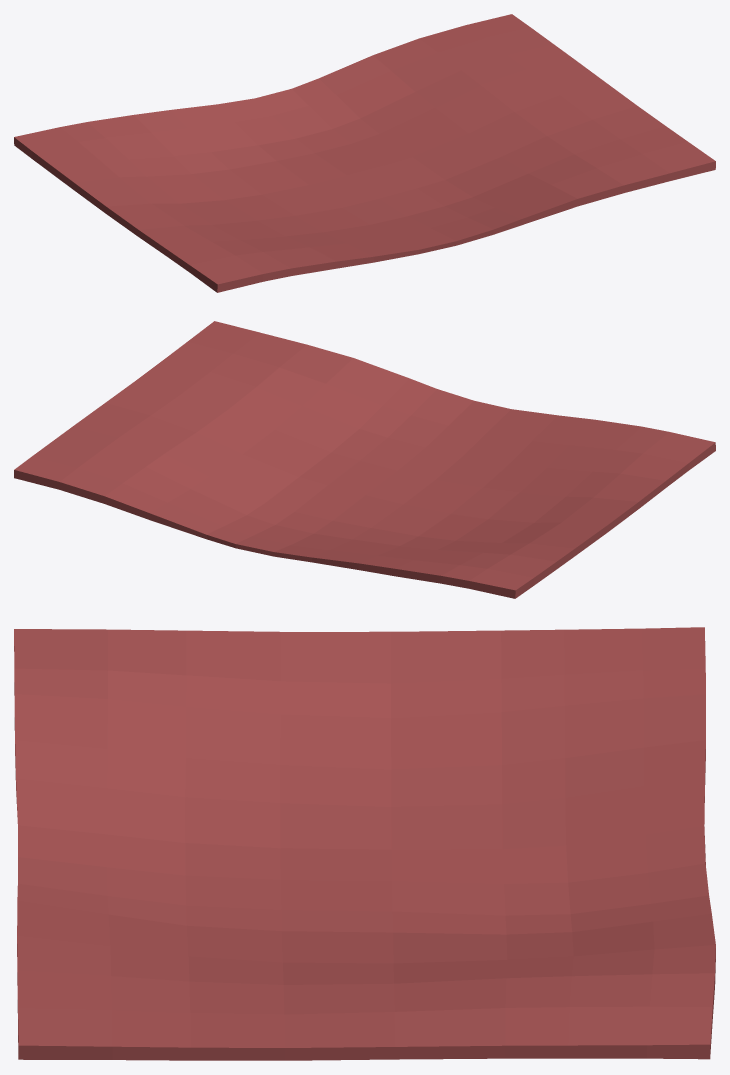
The model's file is Tenda_Telo_low.fbx.
3 renders of one model, top to bottom at view 1: azimuth 30°, elevation 25°; view 2: azimuth 150°, elevation 25°; view 3: azimuth 270°, elevation 25°, orthographic. The views are drawn at different scales.
Visible parts, largest first — view 1: Tenda_Telo_low; view 2: Tenda_Telo_low; view 3: Tenda_Telo_low.
Boxes of the visible parts, x1,y1,x2,y2 form: Tenda_Telo_low: (14,14,715,292); Tenda_Telo_low: (14,321,715,598); Tenda_Telo_low: (14,627,715,1060).
Bounding box in the file's own units: 3.87 × 0.3103 × 2.74.
